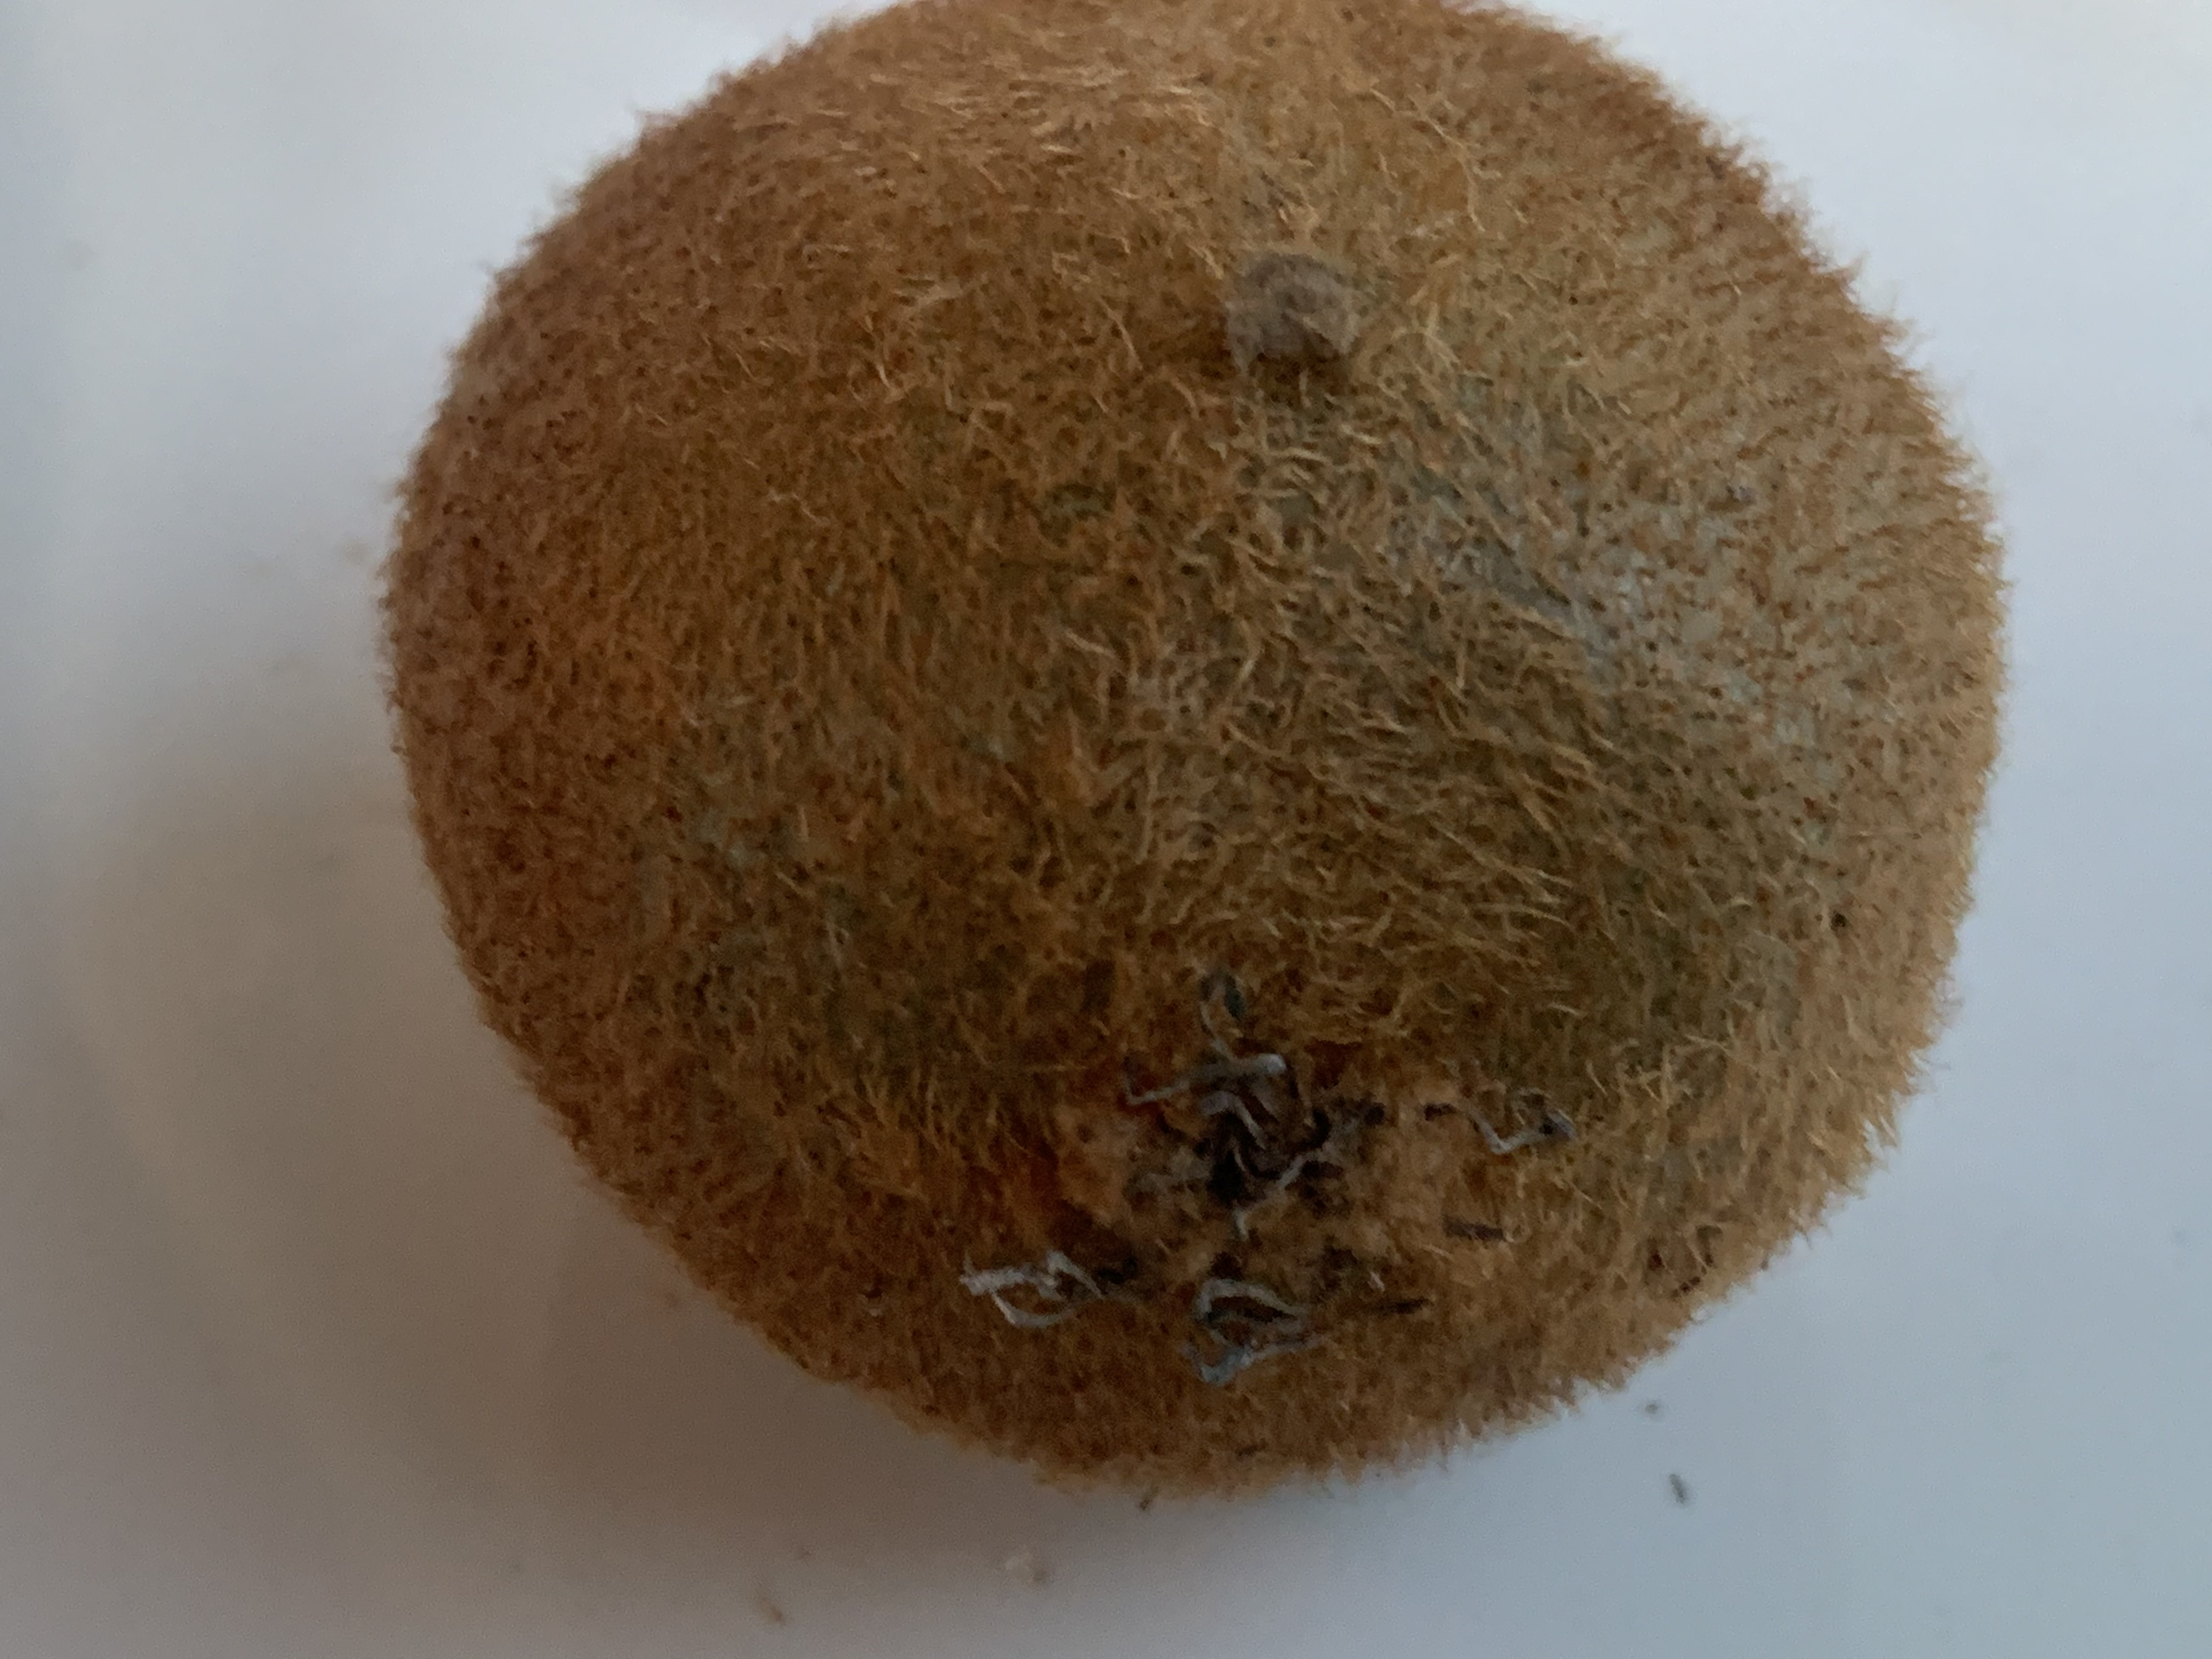kiwi: (336, 9, 2010, 1490)
